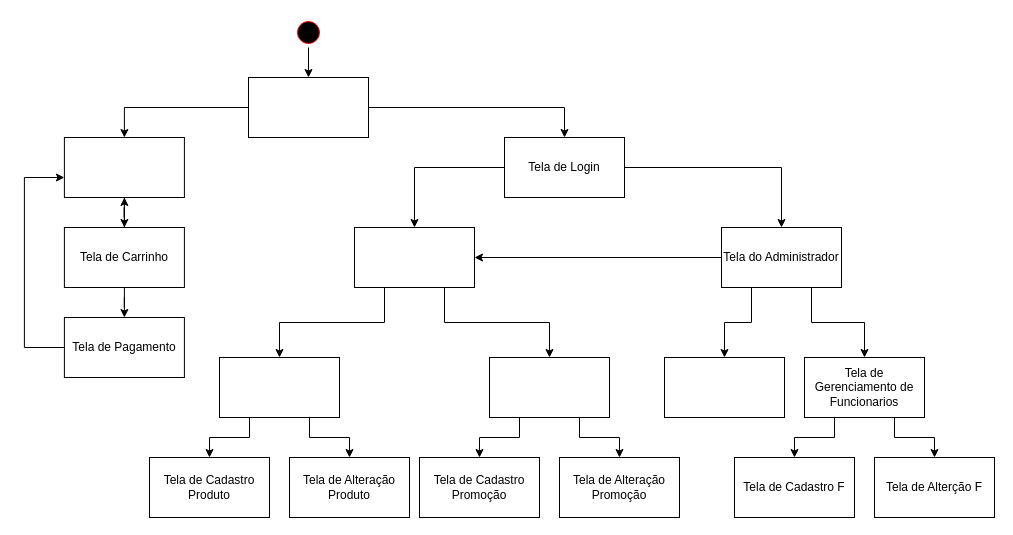
Some shapes in this 1013 by 535 pixel diagram are drawn without their labels. Here are the shapes that lost their labels. From the top down, the centre of each, then its label:
the point at 308,107: Tela Inicial
the point at 123,167: Tela de C ompra
the point at 414,257: Tela do Funcionário
the point at 279,387: Tela de Estoque
the point at 549,387: Tela de Promoções
the point at 724,387: Tela de Análise de vendas
